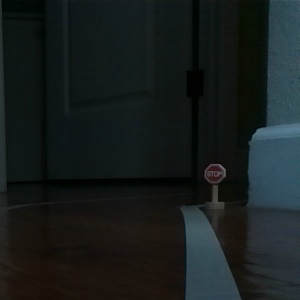stop sign: (202, 161, 228, 212)
